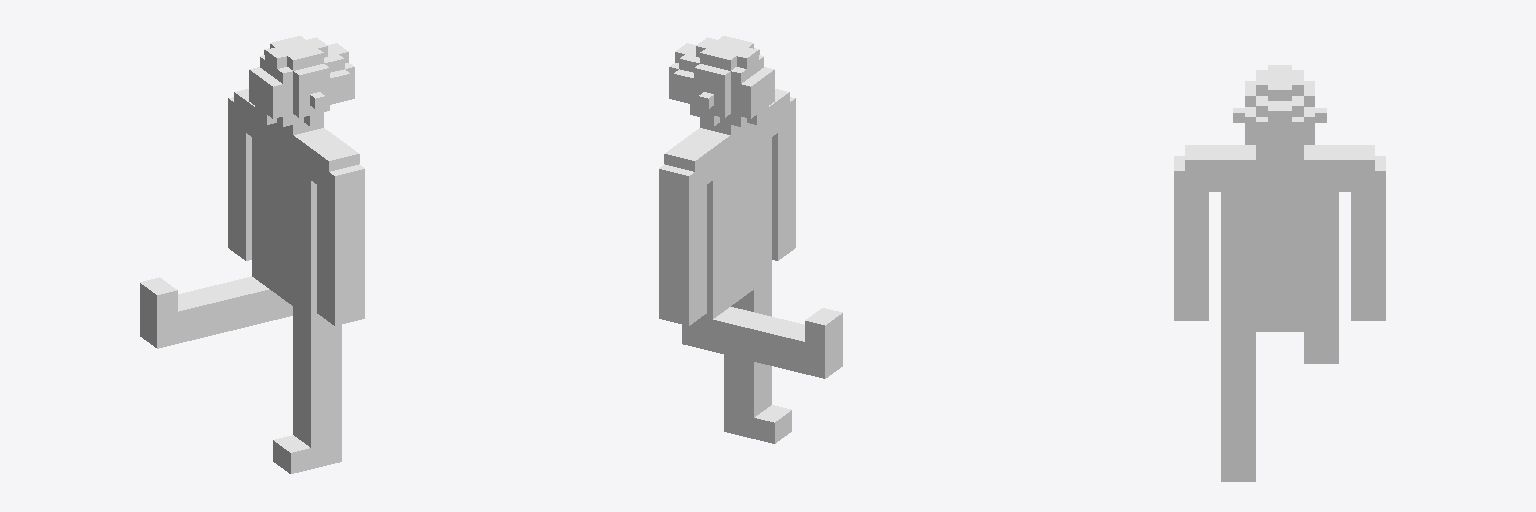
The model's file is guy_step_left.obj.
The picture shows the model from 3 angles: view 1: azimuth 30°, elevation 25°; view 2: azimuth 150°, elevation 25°; view 3: azimuth 270°, elevation 25°; orthographic projection.
Visible parts, largest first — view 1: object 1; view 2: object 1; view 3: object 1.
Part boxes in pixels (left/top/right/bottom): object 1: left=140, top=36, right=364, bottom=473; object 1: left=659, top=36, right=842, bottom=443; object 1: left=1174, top=65, right=1385, bottom=481.
Bounding box in the file's own units: 1.7 × 3.7 × 1.8.